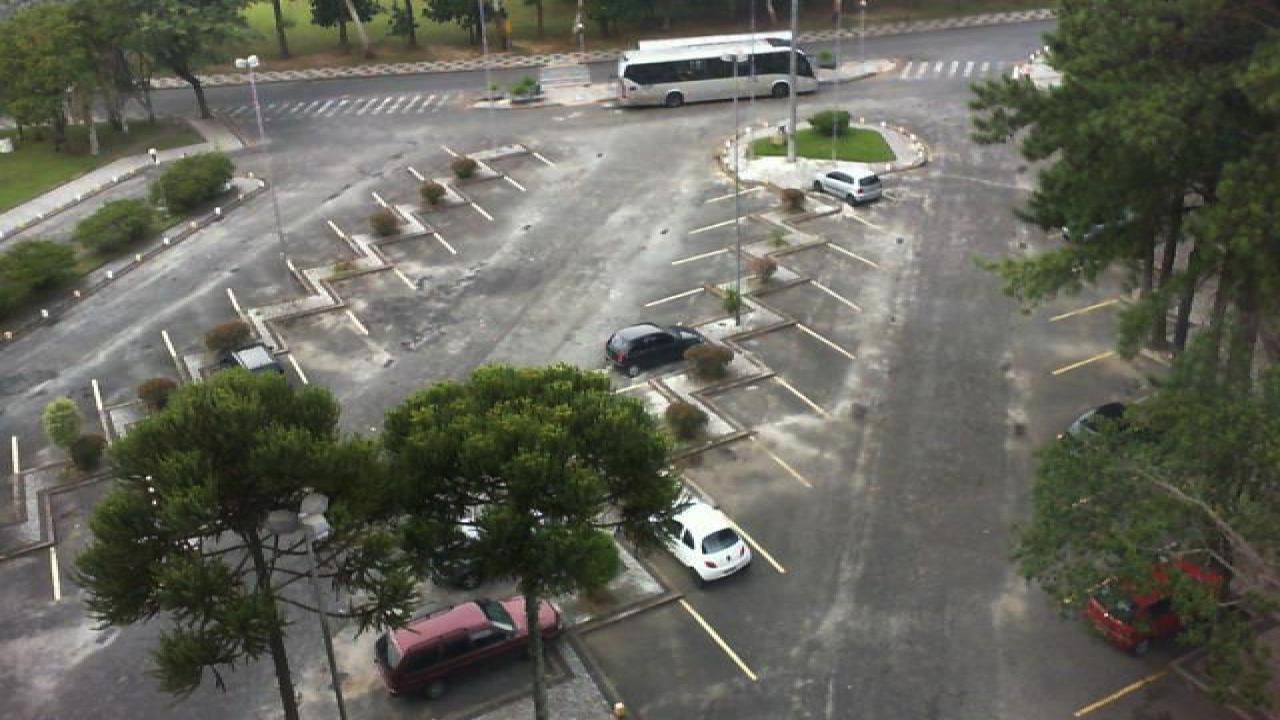Car: (370, 595, 562, 700), (1080, 556, 1230, 658), (662, 490, 756, 584), (602, 323, 708, 377), (1058, 400, 1130, 444), (812, 169, 884, 206), (228, 344, 284, 377)
